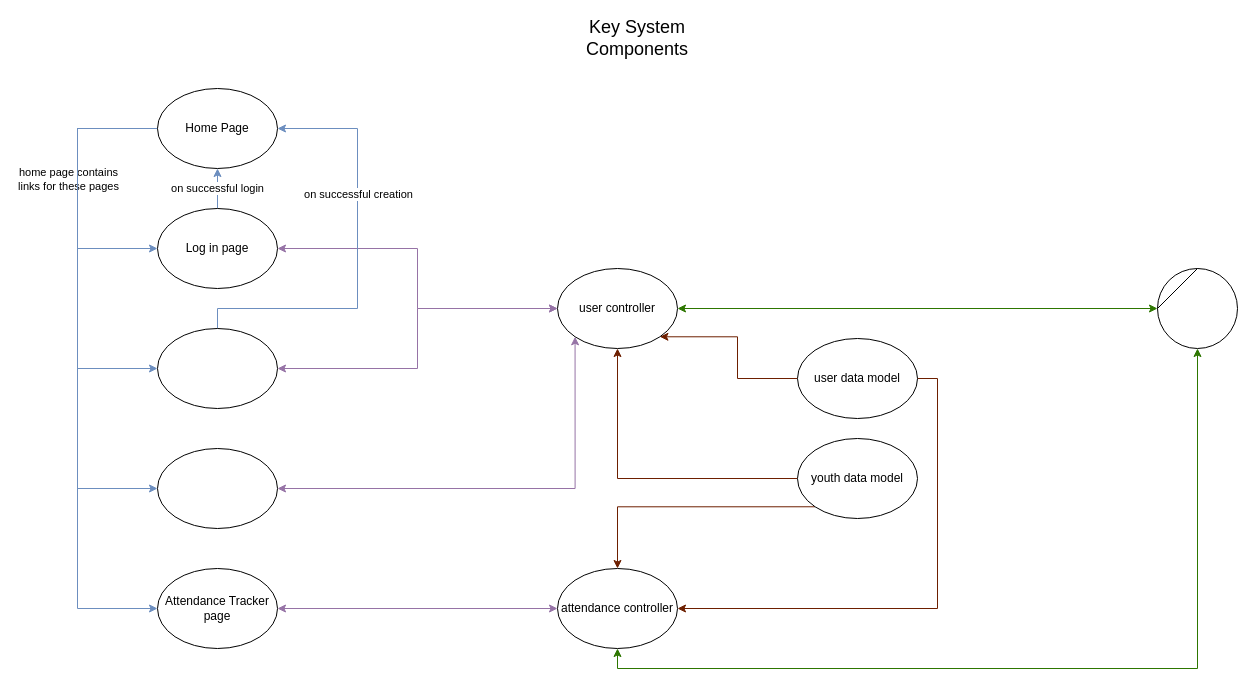
The diagram is 1255 pixels wide and 695 high, and some of its shapes have lost their labels. The box of each missing label's shape, as (x1, y1, x2, y2) in pixels:
Create user page: (156, 328, 278, 408)
Database: (1156, 268, 1238, 348)
Edit profile page: (156, 448, 278, 528)
